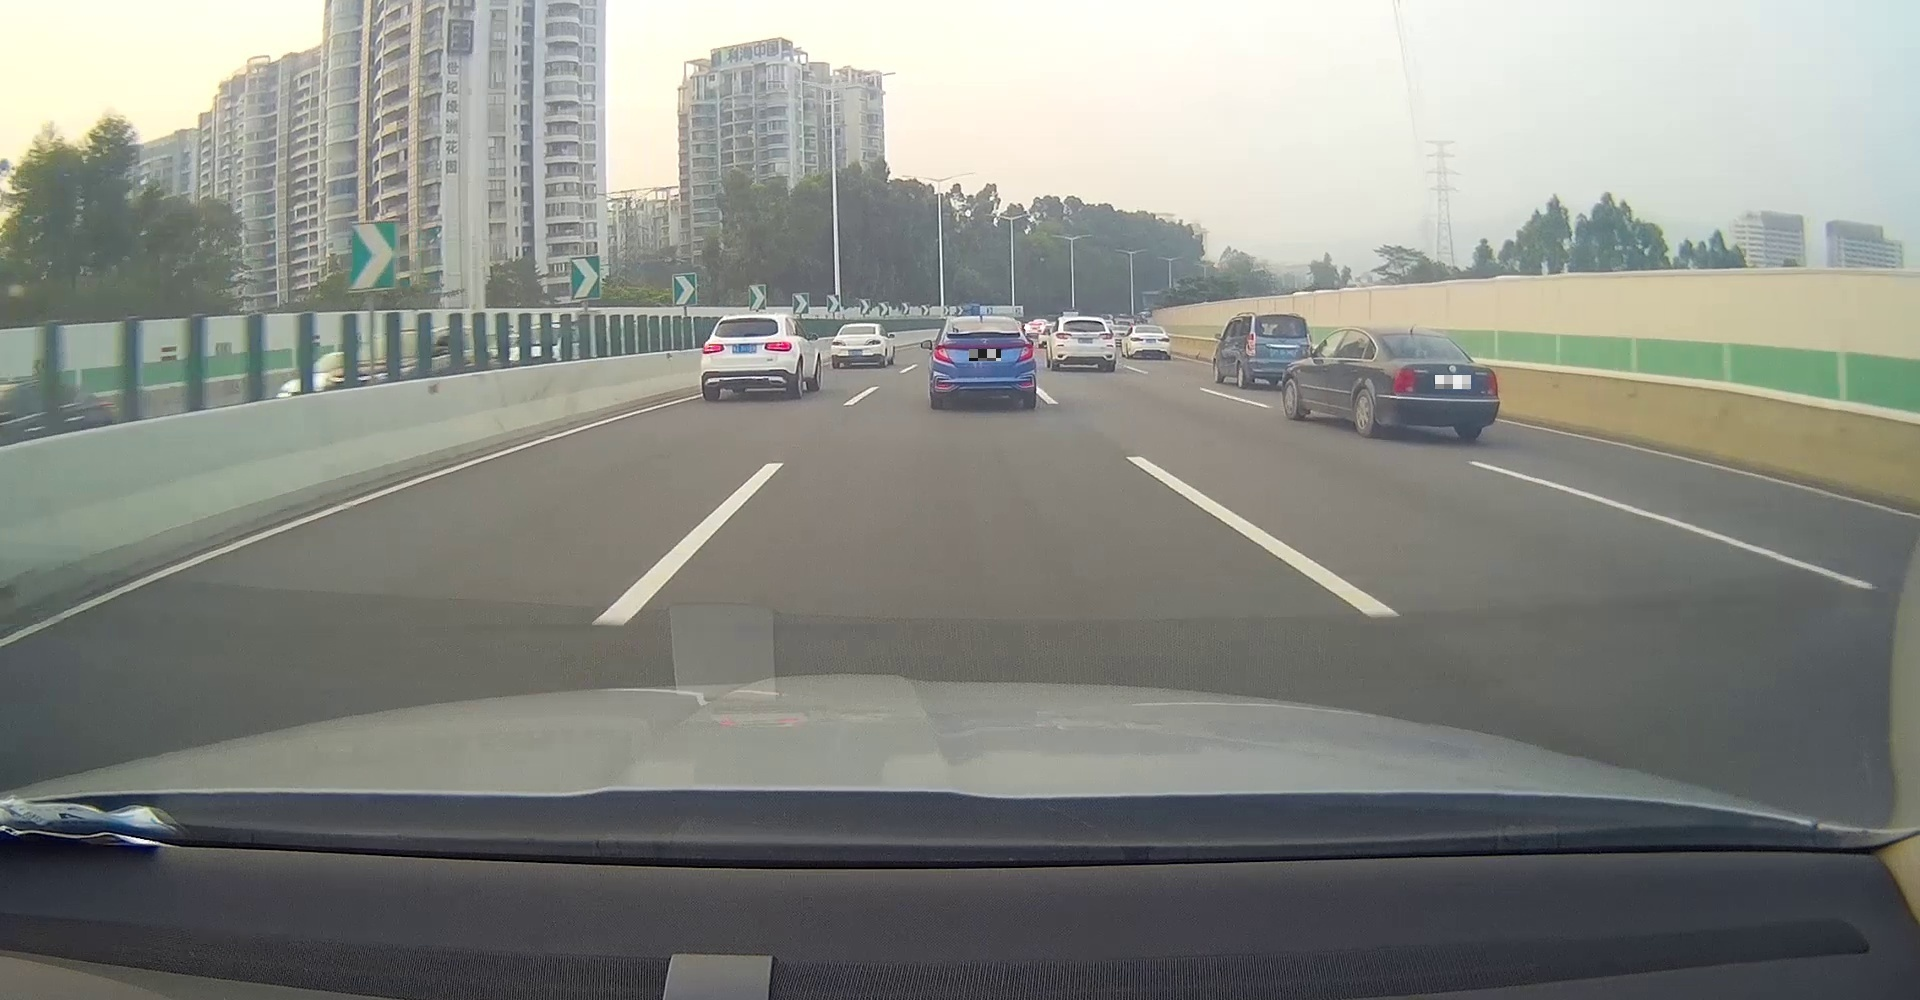L_light: (1393, 367, 1415, 396), (933, 341, 954, 364), (702, 341, 726, 354), (1244, 332, 1256, 357), (1055, 332, 1072, 339), (832, 340, 846, 346), (1130, 338, 1144, 341)
R_light: (1017, 338, 1034, 363), (1486, 371, 1498, 397), (763, 341, 792, 352), (1305, 332, 1313, 355), (863, 339, 881, 345), (1098, 332, 1112, 340), (1158, 338, 1170, 341)
T_light: (737, 317, 757, 324), (1274, 313, 1288, 319), (973, 319, 990, 322), (1077, 319, 1091, 322), (1407, 332, 1420, 336), (1144, 325, 1154, 327), (855, 326, 865, 327)
day-no: (1371, 329, 1500, 439), (928, 315, 1036, 409), (700, 313, 799, 401), (1243, 313, 1314, 390), (1051, 316, 1116, 372), (830, 324, 885, 368), (1129, 325, 1171, 358)
plate_1: (969, 349, 1001, 360)
plate_2: (1435, 376, 1470, 390)
